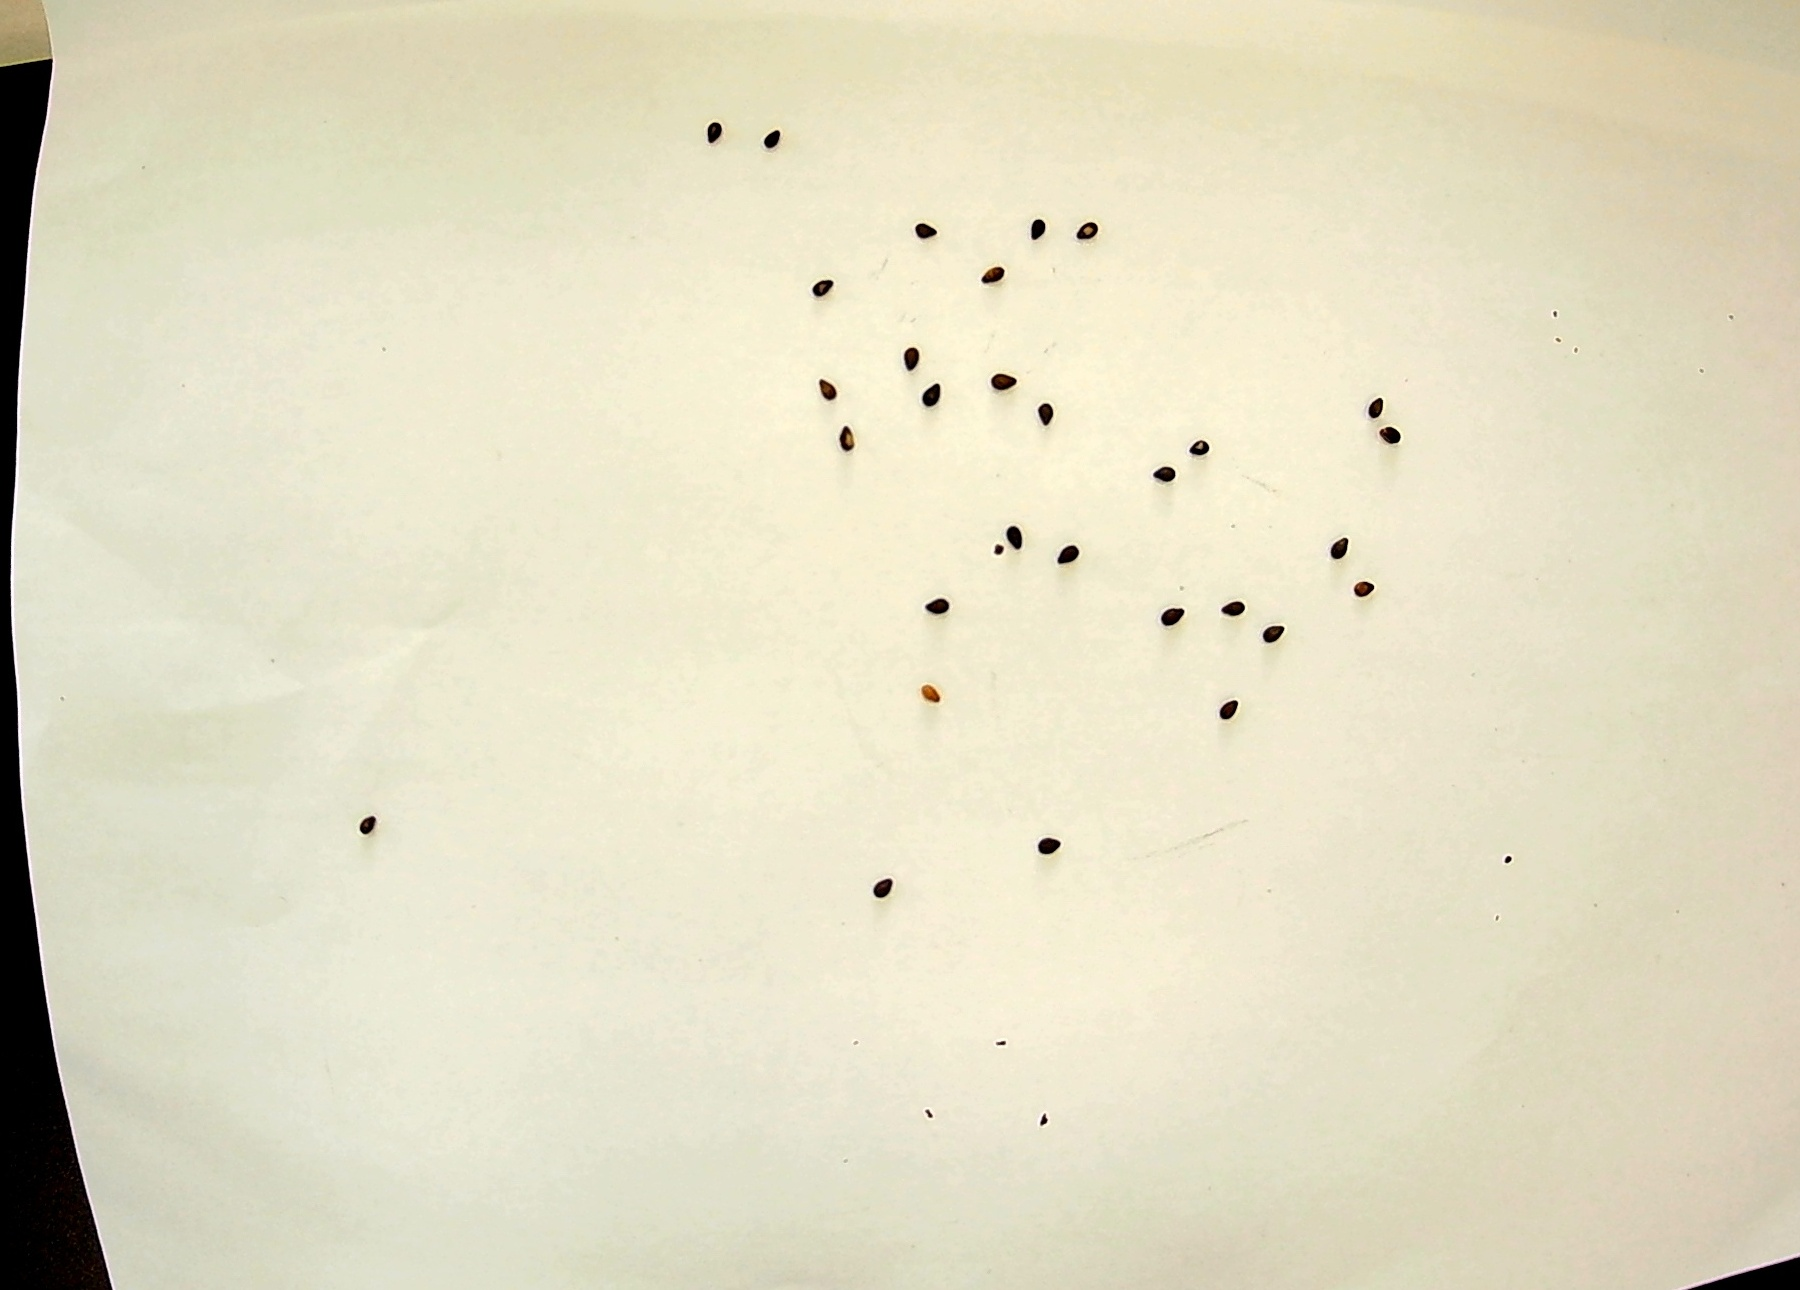sesami: (1353, 565, 1386, 605), (1160, 600, 1192, 639), (1360, 380, 1393, 417), (1381, 420, 1413, 458), (975, 250, 1007, 288), (929, 584, 961, 621), (1024, 392, 1055, 431), (922, 376, 953, 415), (811, 364, 841, 403), (357, 801, 388, 840), (1058, 533, 1088, 572), (864, 866, 894, 905), (703, 116, 734, 154), (756, 112, 787, 149), (915, 211, 946, 249), (1035, 211, 1066, 249), (1077, 211, 1108, 249), (1333, 517, 1363, 554), (1254, 623, 1285, 660), (1218, 592, 1249, 630), (1154, 458, 1185, 496), (1178, 429, 1208, 466), (996, 360, 1027, 398), (903, 339, 933, 377), (811, 268, 841, 306), (832, 424, 862, 462), (1012, 515, 1042, 553), (910, 670, 940, 708), (1213, 692, 1243, 730), (1031, 822, 1062, 860)
